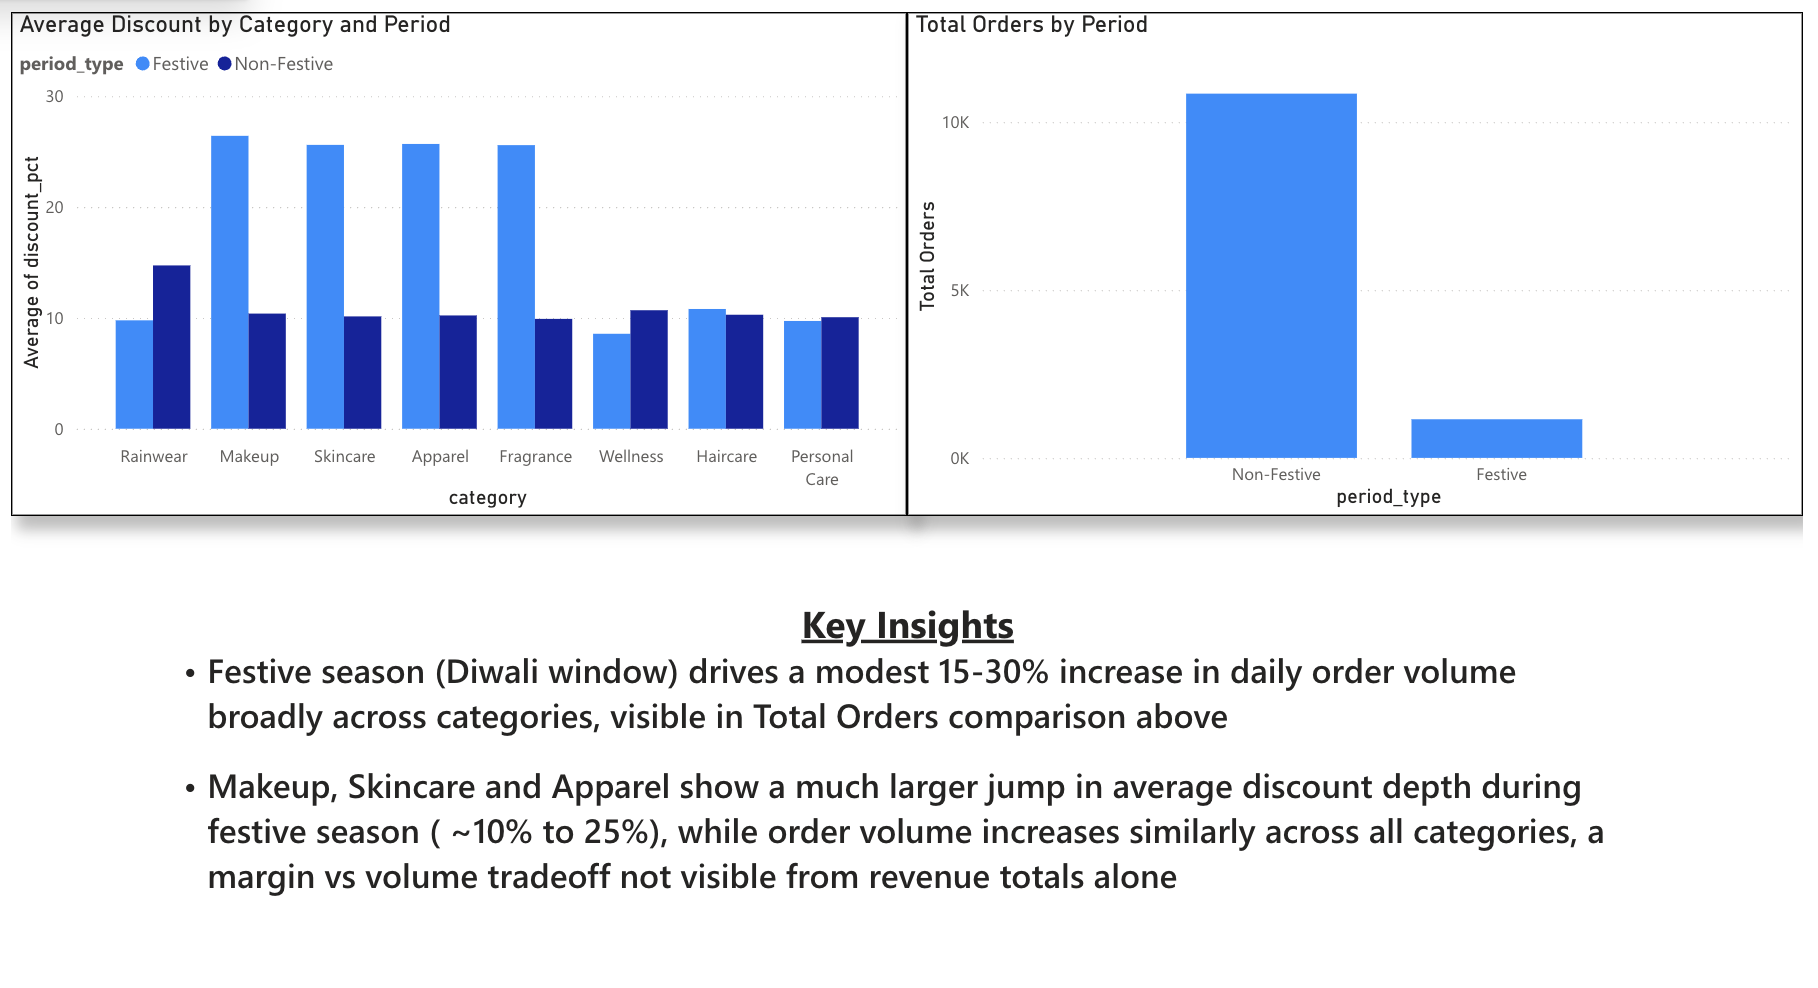

This screenshot's page, from the dashboard's own definition file:
{"tool":"powerbi","page":{"name":"Seasonality & Discounting","canvas":[1280,720],"ordinal":2},"visuals":[{"type":"clusteredColumnChart","title":"Average Discount by Category and Period","fields":{"Category":["orders_clean.category"],"Y":["Avg(orders_clean.discount_pct)"],"Series":["orders_clean.period_type"]},"box":[0,0,640,360],"z":0},{"type":"clusteredColumnChart","title":"Total Orders by Period","fields":{"Category":["orders_clean.period_type"],"Y":["orders_clean.Total Orders"]},"box":[640,0,640,360],"z":1},{"type":"textbox","box":[116.7,413.3,1046.7,261.7],"z":2}]}

Visuals, with their boxes on the page's 1280x720 design canvas (x1, y1, x2, y2). These are canvas units, not pixel positions in the 1818x988 screenshot, which may show the page scaled, cropped or inside an application window:
"Average Discount by Category and Period" clusteredColumnChart: x1=0, y1=0, x2=640, y2=360
"Total Orders by Period" clusteredColumnChart: x1=640, y1=0, x2=1280, y2=360
textbox: x1=117, y1=413, x2=1163, y2=675
